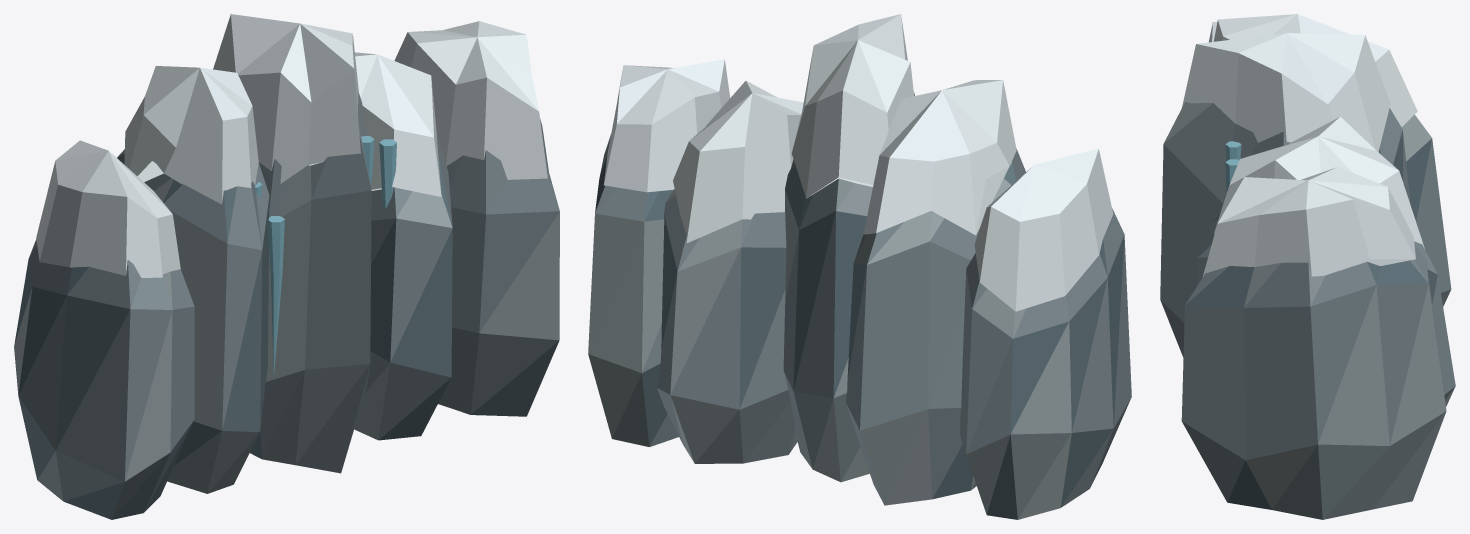
File: ROCK_15_IcyCliffFormation.glb
3 renders of one model, left to right at view 1: azimuth 30°, elevation 25°; view 2: azimuth 150°, elevation 25°; view 3: azimuth 270°, elevation 25°, orthographic. The views are drawn at different scales.
Visible parts, largest first — view 1: ROCK_15_IcyCliffFormation; view 2: ROCK_15_IcyCliffFormation; view 3: ROCK_15_IcyCliffFormation.
Part boxes in pixels (<box>): ROCK_15_IcyCliffFormation: <box>14,14,559,519</box>; ROCK_15_IcyCliffFormation: <box>588,14,1131,519</box>; ROCK_15_IcyCliffFormation: <box>1160,14,1455,519</box>.
Bounding box in the file's own units: 8.71 × 6.75 × 4.72.
